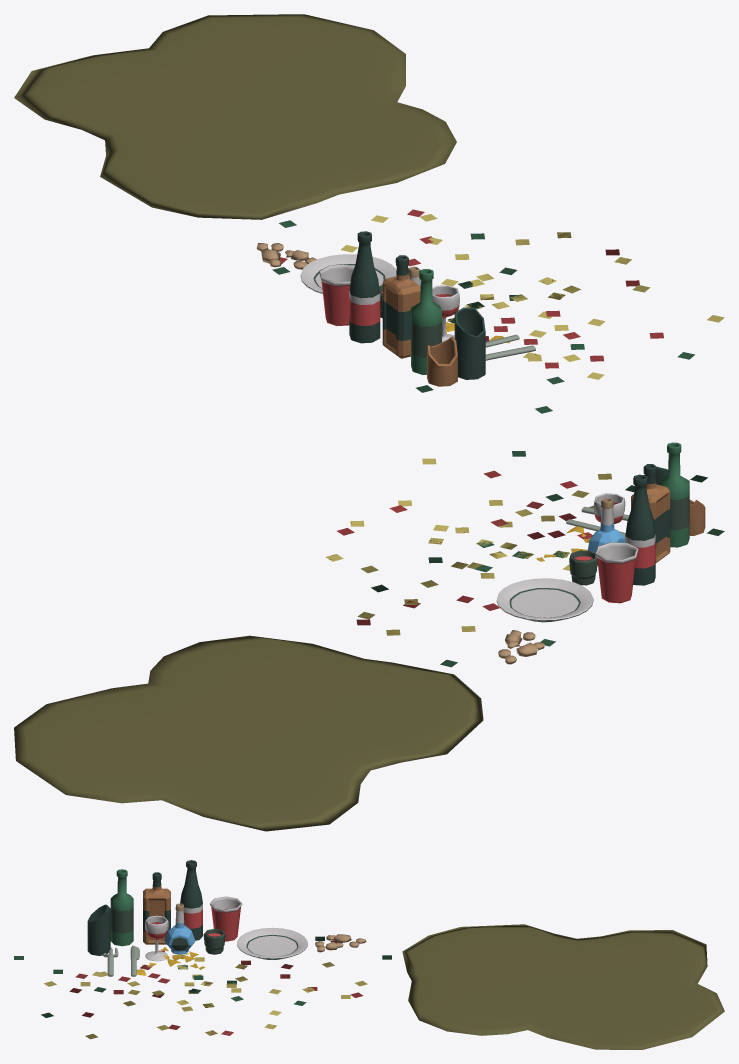
File: partyAssets__.fbx
The picture shows the model from 3 angles, top to bottom: view 1: azimuth 30°, elevation 25°; view 2: azimuth 150°, elevation 25°; view 3: azimuth 270°, elevation 25°; orthographic projection. The views are drawn at different scales.
Parts seen in each view (by area): view 1: puddle1, confetti2, hugo_bottle, totally_not_alcohol_bottle, bottle2, broken_bottle_1, big_cup, plate, broken_bottle2, glass_of_water, bred_crums; view 2: puddle1, confetti2, plate, hugo_bottle, big_cup, bottle2, totally_not_alcohol_bottle, heart_potion_bottle, bred_crums, shot_glass; view 3: puddle1, confetti2, plate, bottle2, hugo_bottle, totally_not_alcohol_bottle, broken_bottle_1, big_cup, heart_potion_bottle, glass_of_water, bred_crums, shot_glass (+1 smaller).
Part boxes in pixels (box(x1,y1,x2,y2)): puddle1: box(14, 14, 456, 219); confetti2: box(272, 209, 724, 413); hugo_bottle: box(349, 231, 380, 343); totally_not_alcohol_bottle: box(382, 255, 420, 358); bottle2: box(411, 269, 441, 374); broken_bottle_1: box(454, 307, 485, 379); big_cup: box(319, 264, 354, 325); plate: box(300, 254, 396, 293); broken_bottle2: box(427, 336, 457, 386); glass_of_water: box(432, 285, 459, 341); bred_crums: box(256, 243, 316, 269); puddle1: box(14, 635, 483, 831); confetti2: box(325, 451, 724, 667); plate: box(496, 578, 593, 622); hugo_bottle: box(625, 474, 655, 585); big_cup: box(595, 542, 638, 603); bottle2: box(659, 442, 689, 547); totally_not_alcohol_bottle: box(631, 464, 670, 562); heart_potion_bottle: box(587, 498, 625, 565); bred_crums: box(498, 630, 544, 664); shot_glass: box(569, 550, 597, 585); puddle1: box(402, 924, 724, 1049); confetti2: box(14, 936, 391, 1039); plate: box(237, 927, 307, 960); bottle2: box(110, 869, 133, 946); hugo_bottle: box(180, 860, 202, 940); totally_not_alcohol_bottle: box(143, 872, 170, 944); broken_bottle_1: box(87, 904, 110, 955); big_cup: box(210, 896, 242, 941); heart_potion_bottle: box(164, 903, 195, 954); glass_of_water: box(145, 915, 168, 961); bred_crums: box(315, 934, 366, 952); shot_glass: box(203, 929, 225, 954).
Size of the model in its own units: 257 by 72.81 by 615.
